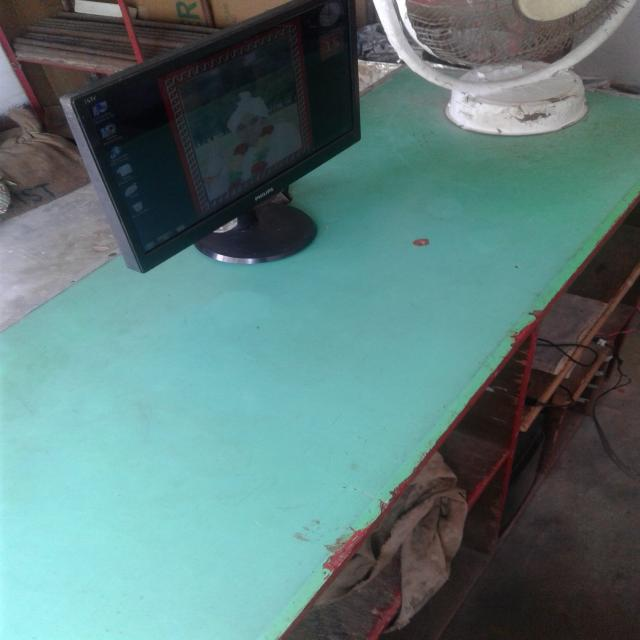laptop: (83, 2, 384, 276)
